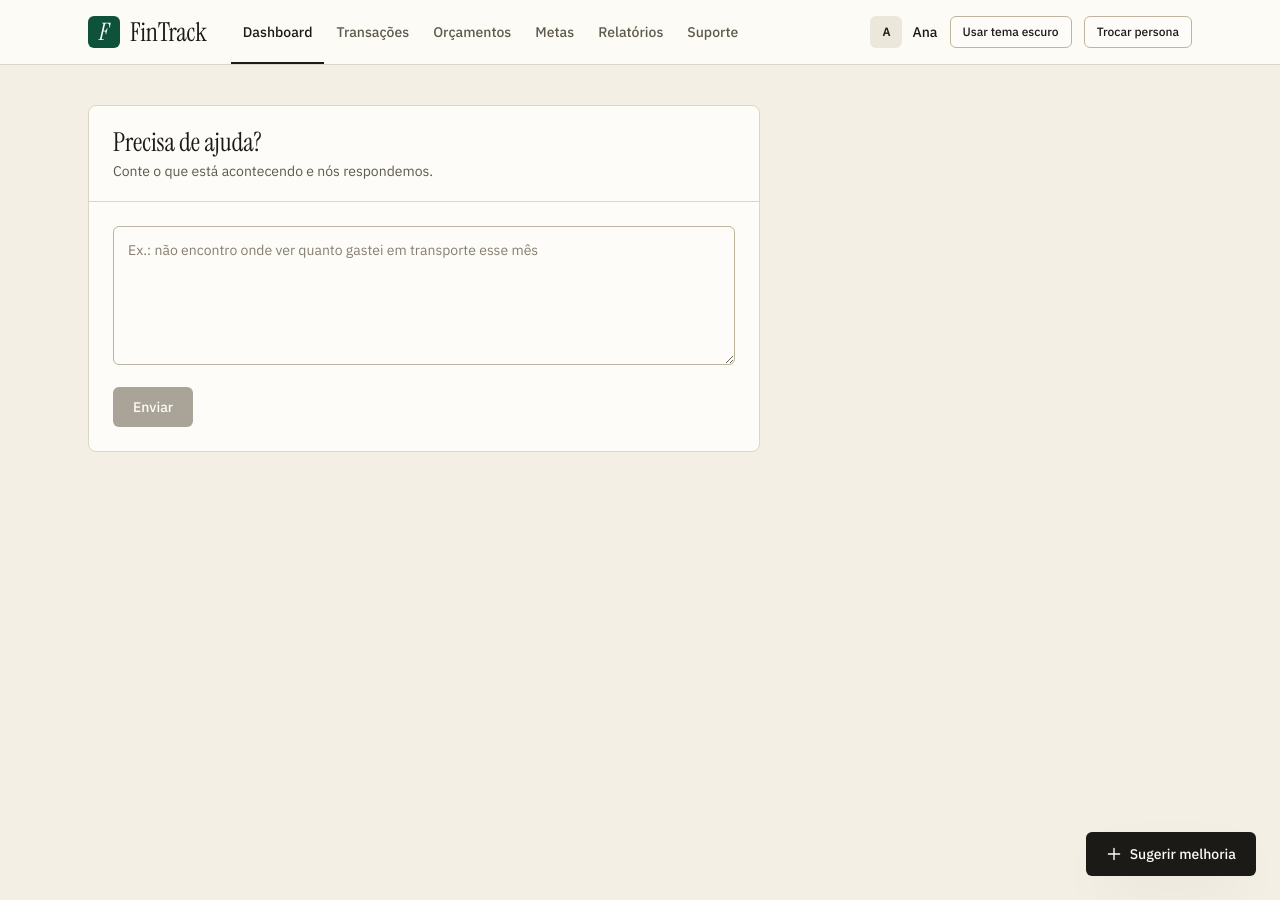
Test: suporte › envia o ticket e confirma para o usuário
Type "não acho onde corrigir a data" into the text box at (424, 295), box top-left (113, 226), bottom-right (735, 365)
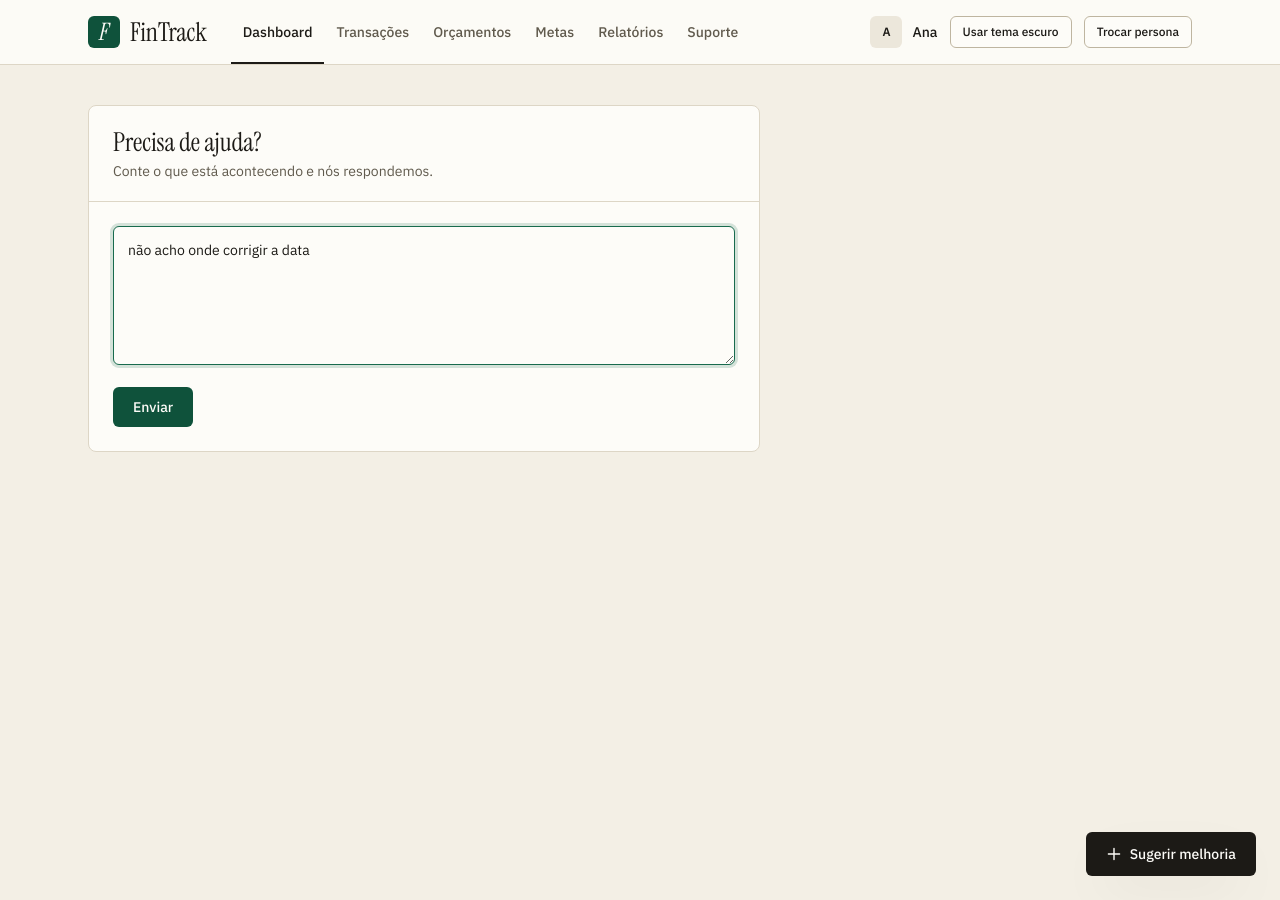
Click the button "Enviar" at (153, 407), box top-left (113, 387), bottom-right (193, 427)
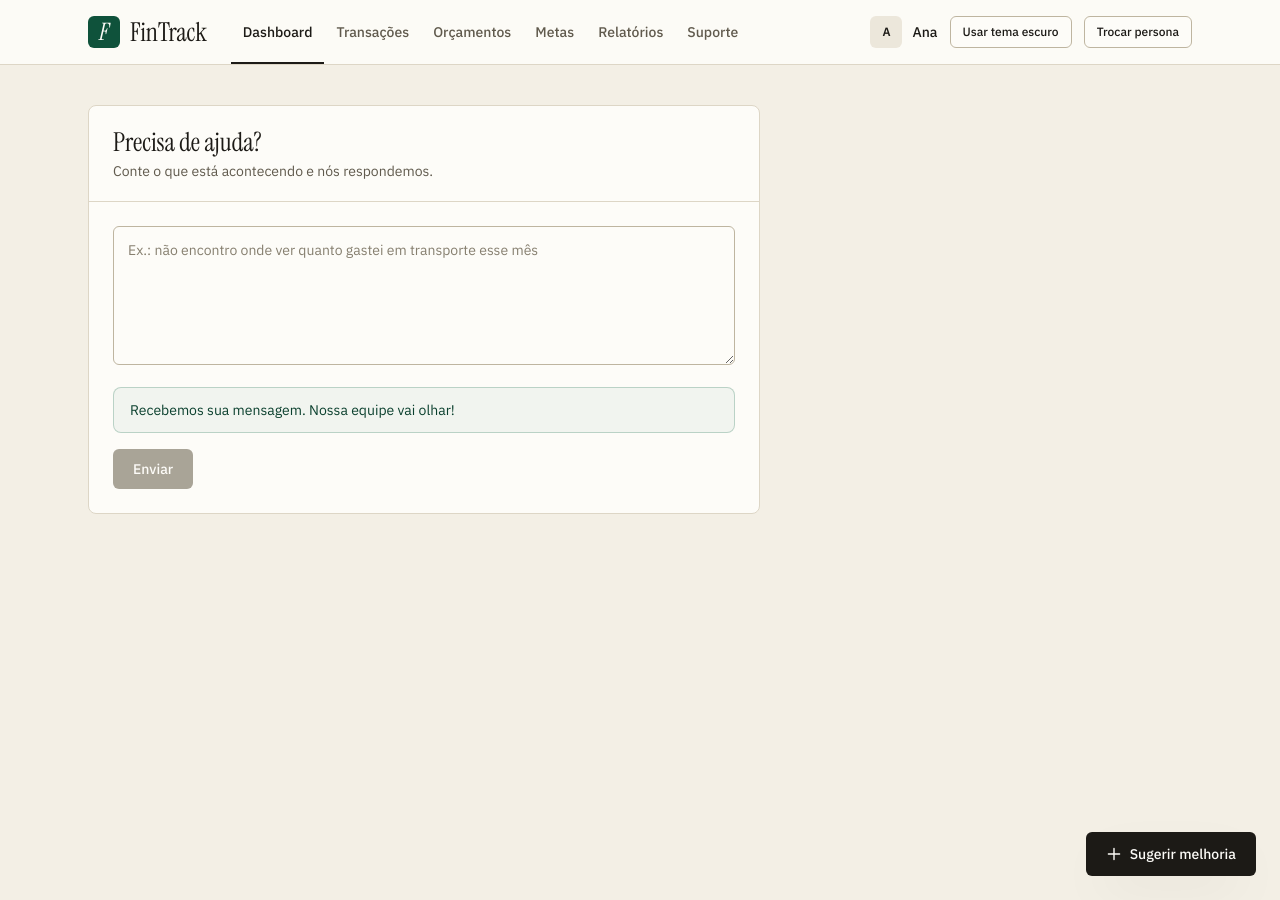
Result: the text "Recebemos sua mensagem. Nossa equipe vai olhar!" is shown at top-left (113, 387), bottom-right (735, 433)
